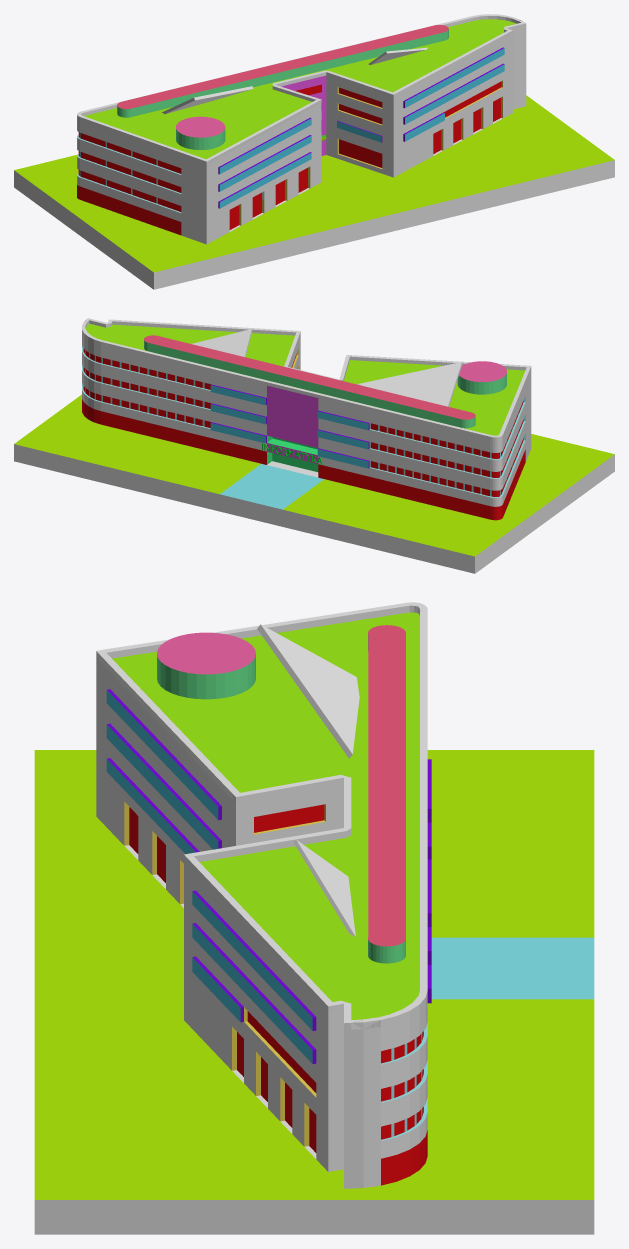
File: outside.fbx
3 renders of one model, top to bottom at view 1: azimuth 30°, elevation 25°; view 2: azimuth 150°, elevation 25°; view 3: azimuth 270°, elevation 25°, orthographic. The views are drawn at different scales.
Visible parts, largest first — view 1: d17, floor, Cube; view 2: d17, floor, Cube, Cube.001; view 3: floor, d17, Cube, Cube.001.
Part boxes in pixels (x1,y1,x2,y2): d17: (77,14,526,244); floor: (14,95,614,289); Cube: (162,86,253,113); d17: (82,318,531,520); floor: (14,394,614,573); Cube: (357,362,462,406); Cube.001: (192,329,252,357); floor: (34,750,594,1234); d17: (96,602,431,1188); Cube: (257,624,359,758); Cube.001: (293,839,355,936).
Size of the model in its own units: 1396 by 368 by 734.
